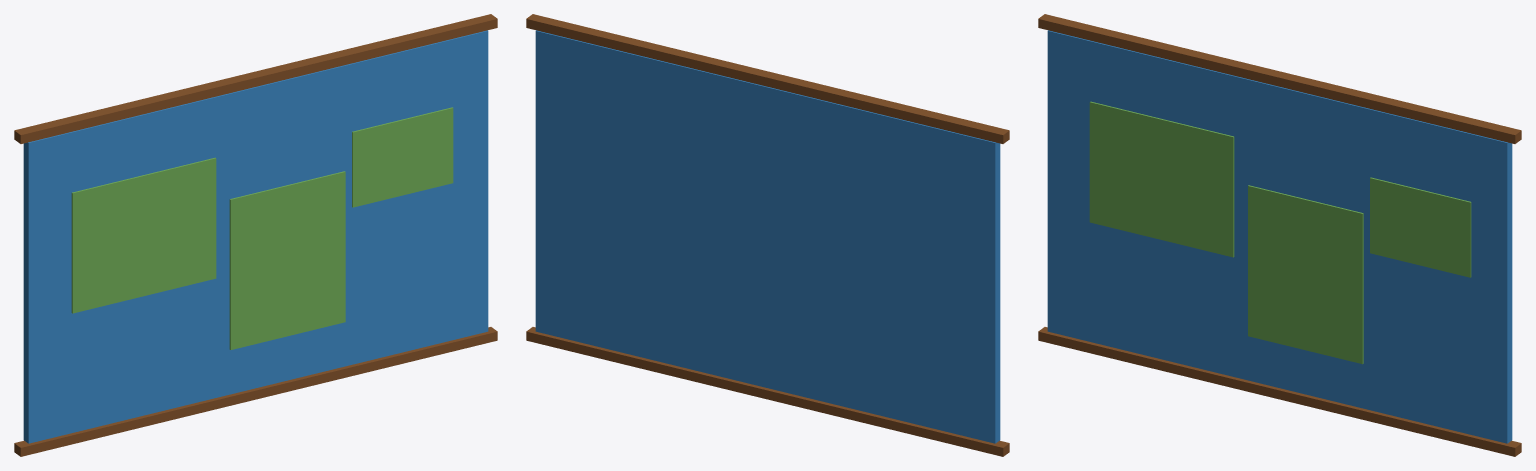
Rendered from world_map.glb.
3 views of the same model, side by side, from view 1: azimuth 30°, elevation 25°; view 2: azimuth 150°, elevation 25°; view 3: azimuth 330°, elevation 25° (orthographic).
Visible parts, largest first — view 1: world_map; view 2: world_map; view 3: world_map.
Part boxes in pixels (<box>): world_map: <box>14,14,497,456</box>; world_map: <box>526,14,1009,456</box>; world_map: <box>1038,14,1521,456</box>.
Bounding box in the file's own units: 1.66 × 1.07 × 0.0405.
